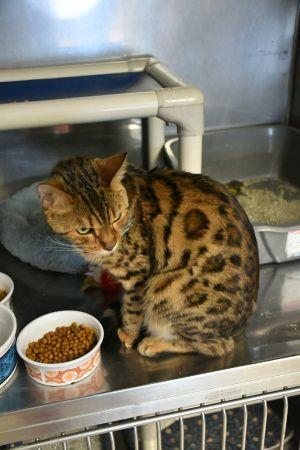bengal: (33, 147, 153, 266)
